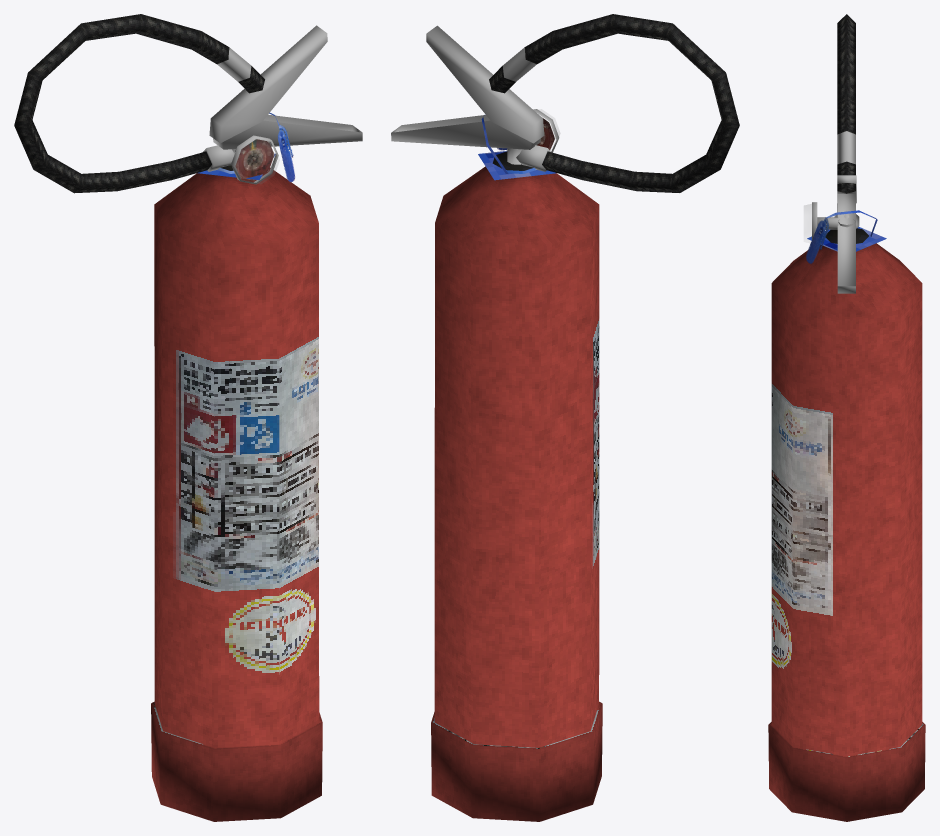
Rendered from extintor_de_incendio_estilo_ps1.glb.
3 views of the same model, side by side, from view 1: azimuth 30°, elevation 25°; view 2: azimuth 150°, elevation 25°; view 3: azimuth 270°, elevation 25° (orthographic). The views are drawn at different scales.
Parts seen in each view (by area): view 1: Object_7, Object_2, Object_5, Object_3, Object_8; view 2: Object_7, Object_2, Object_5, Object_8; view 3: Object_7, Object_5, Object_2, Object_8.
Boxes of the visible parts, bbox=[...] form: Object_7: bbox=[151, 167, 322, 821]; Object_2: bbox=[14, 14, 264, 193]; Object_5: bbox=[203, 25, 362, 184]; Object_3: bbox=[235, 139, 274, 180]; Object_8: bbox=[197, 113, 294, 182]; Object_7: bbox=[431, 166, 602, 821]; Object_2: bbox=[489, 14, 739, 192]; Object_5: bbox=[391, 25, 559, 171]; Object_8: bbox=[478, 114, 556, 180]; Object_7: bbox=[768, 243, 925, 821]; Object_5: bbox=[812, 131, 859, 293]; Object_2: bbox=[837, 14, 855, 212]; Object_8: bbox=[806, 210, 886, 263].
Bounding box in the file's own units: 1.36 × 3.03 × 0.6088.
Materials: 7 (7 with a texture image).
